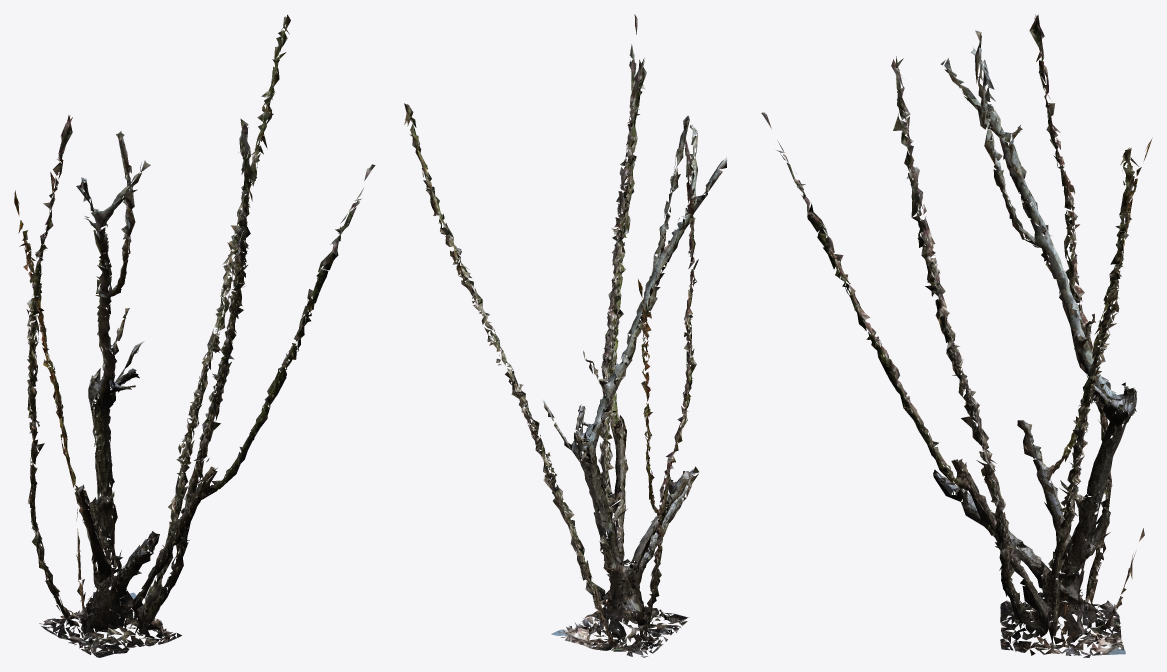
The model's file is bramble_twigs.glb.
3 renders of one model, left to right at view 1: azimuth 30°, elevation 25°; view 2: azimuth 150°, elevation 25°; view 3: azimuth 270°, elevation 25°, orthographic. The views are drawn at different scales.
Visible parts, largest first — view 1: Rose Bush_Material.001_0; view 2: Rose Bush_Material.001_0; view 3: Rose Bush_Material.001_0.
Part boxes in pixels (bbox=[...]): Rose Bush_Material.001_0: bbox=[14, 14, 375, 657]; Rose Bush_Material.001_0: bbox=[404, 14, 727, 657]; Rose Bush_Material.001_0: bbox=[761, 14, 1152, 657].
Bounding box in the file's own units: 1.11 × 2.04 × 1.18.
Materials: 1 (1 with a texture image).
